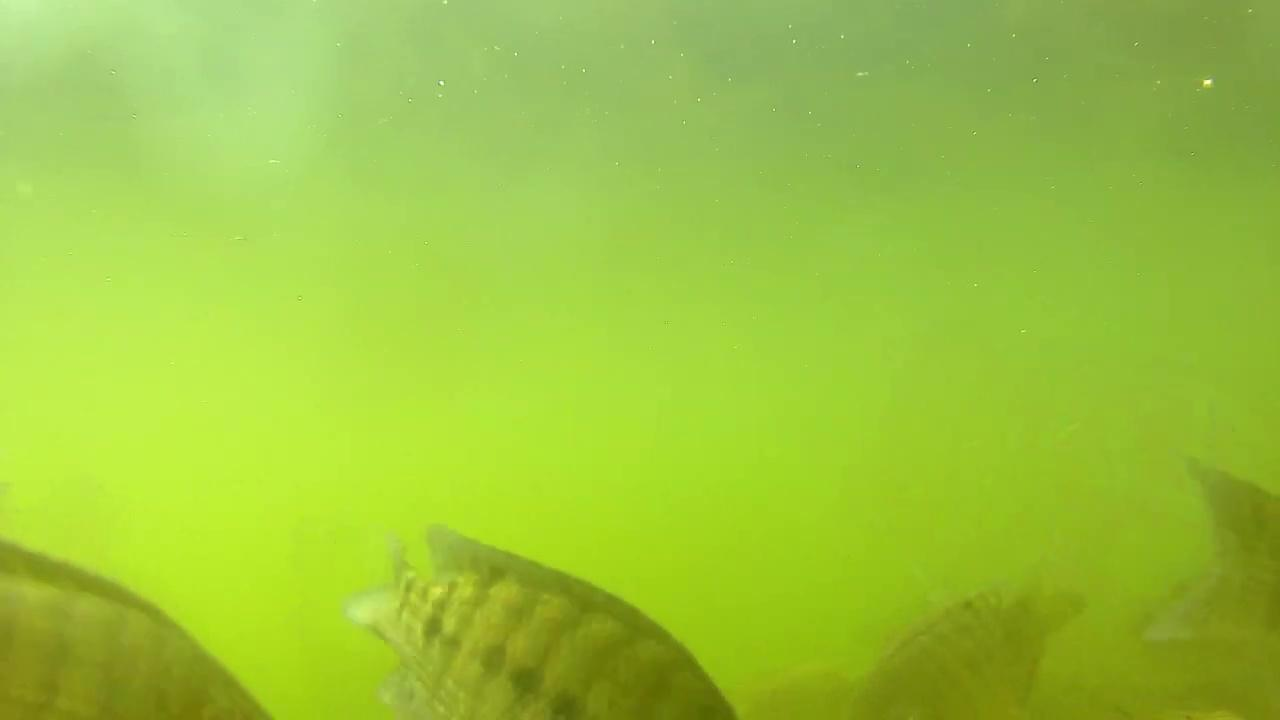Tilapia: (359, 524, 740, 720), (829, 546, 1078, 720)
